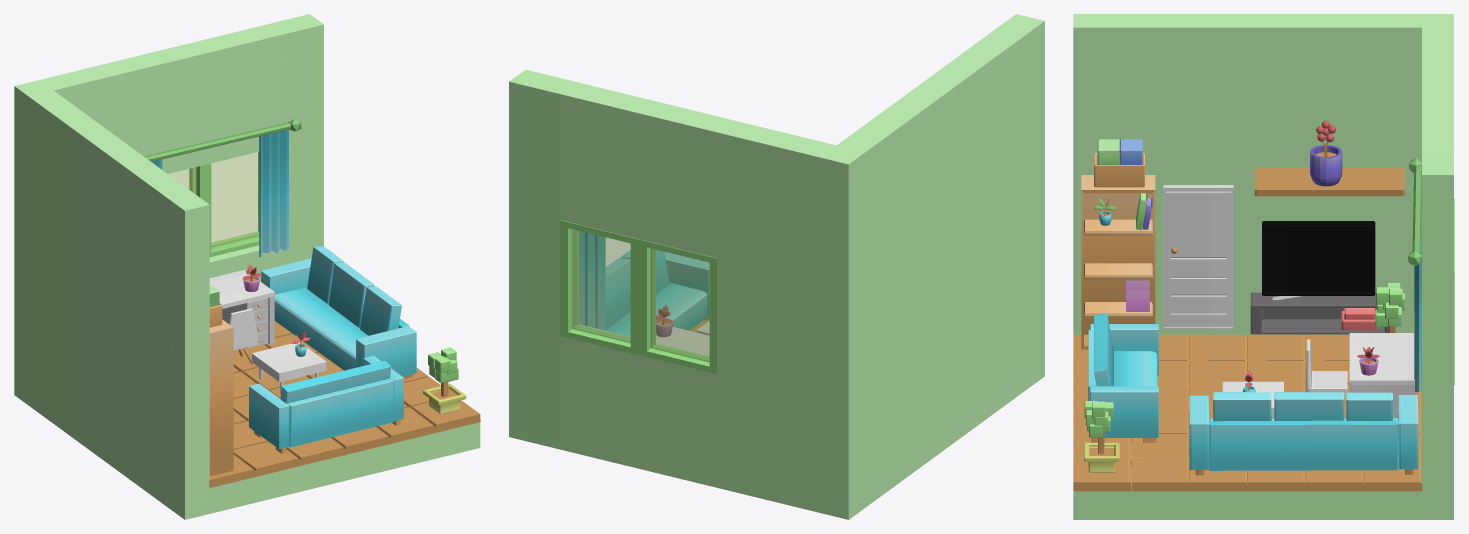
The model's file is dinnaya komnata.glb.
The picture shows the model from 3 angles, left to right: view 1: azimuth 30°, elevation 25°; view 2: azimuth 150°, elevation 25°; view 3: azimuth 270°, elevation 25°; orthographic projection. The views are drawn at different scales.
Parts seen in each view (by area): view 1: Wall_4, Sofa_02_14, Floor_5, Sofa_01_8, Cube_0, BookShelf_10, Plane_3, Desk_20, Table_01_9, Flower pot_05_7, Cylinder_1, Chair_21; view 2: Wall_4, Cube_0, Sofa_02_14, Plane_3, Desk_20; view 3: Wall_4, Floor_5, Sofa_02_14, Door_22, BookShelf_10, Tv_18, Sofa_01_8, TV desk_15, Shelf_6, Desk_20, Flower pot_05_7, Flower pot_02_24 (+11 smaller).
Boxes of the visible parts, <box> form: Wall_4: <box>14,14,480,519</box>; Sofa_02_14: <box>261,246,416,378</box>; Floor_5: <box>209,321,480,487</box>; Sofa_01_8: <box>249,355,403,453</box>; Cube_0: <box>168,152,259,257</box>; BookShelf_10: <box>209,319,233,476</box>; Plane_3: <box>151,129,288,257</box>; Desk_20: <box>209,270,274,348</box>; Table_01_9: <box>252,342,326,393</box>; Flower pot_05_7: <box>423,347,466,414</box>; Cylinder_1: <box>144,122,290,161</box>; Chair_21: <box>229,308,258,363</box>; Wall_4: <box>509,14,1044,519</box>; Cube_0: <box>560,220,717,374</box>; Sofa_02_14: <box>605,249,709,336</box>; Plane_3: <box>579,231,605,330</box>; Desk_20: <box>656,327,709,355</box>; Wall_4: <box>1073,14,1453,519</box>; Floor_5: <box>1073,334,1422,491</box>; Sofa_02_14: <box>1189,392,1418,475</box>; Door_22: <box>1163,185,1233,328</box>; BookShelf_10: <box>1081,175,1155,349</box>; Tv_18: <box>1262,221,1375,300</box>; Sofa_01_8: <box>1088,313,1158,442</box>; TV desk_15: <box>1250,292,1388,334</box>; Shelf_6: <box>1254,168,1404,196</box>; Desk_20: <box>1347,333,1417,417</box>; Flower pot_05_7: <box>1084,401,1119,472</box>; Flower pot_02_24: <box>1310,120,1342,186</box>.
Size of the model in its own units: 4.37 by 4.37 by 4.38.
Materials: 2 (2 with a texture image).
